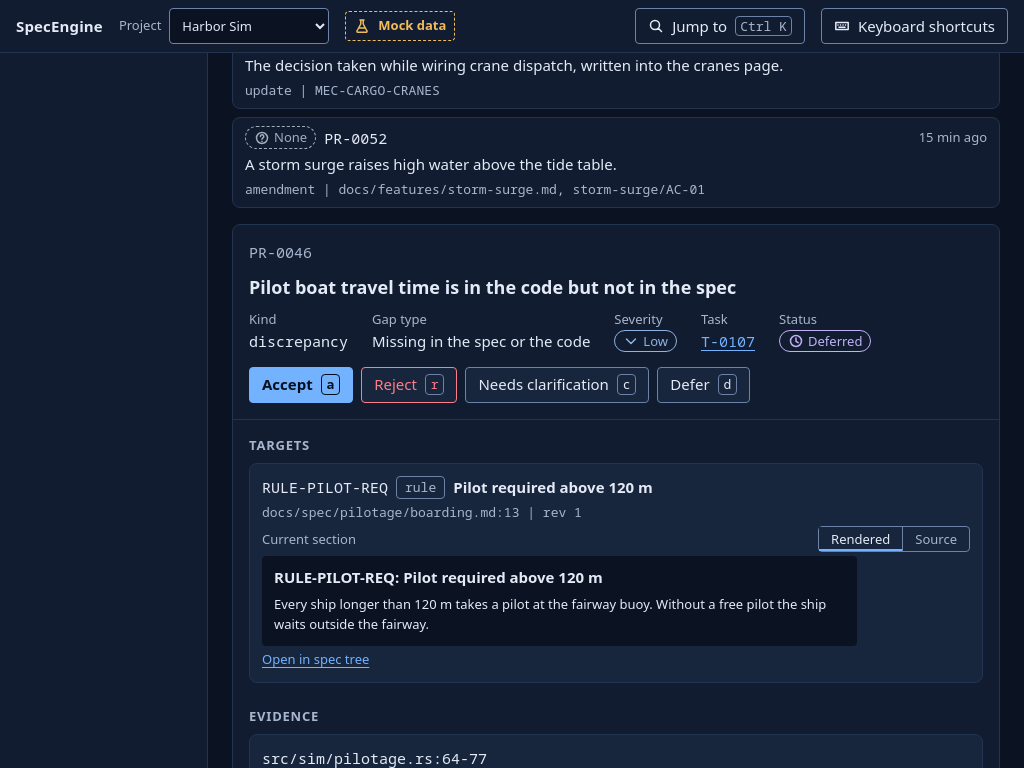
the UI over the mock › shows a refused stage in the daemon's words and keeps the dialog: a deferred proposal is not open
(page scrolled)
Click the button "Accept a". click: [301, 384]
box: [249, 366, 353, 402]
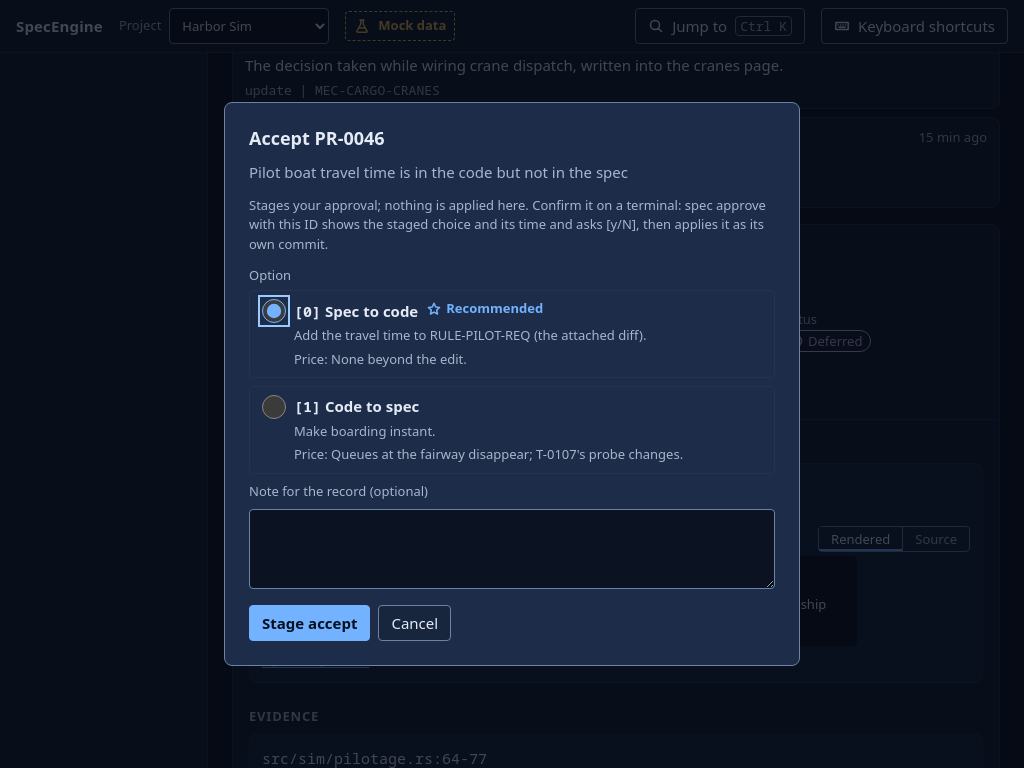
Type "try" into the text box labelled "Note for the record (optional)". click: [512, 549]
box: [249, 509, 775, 589]
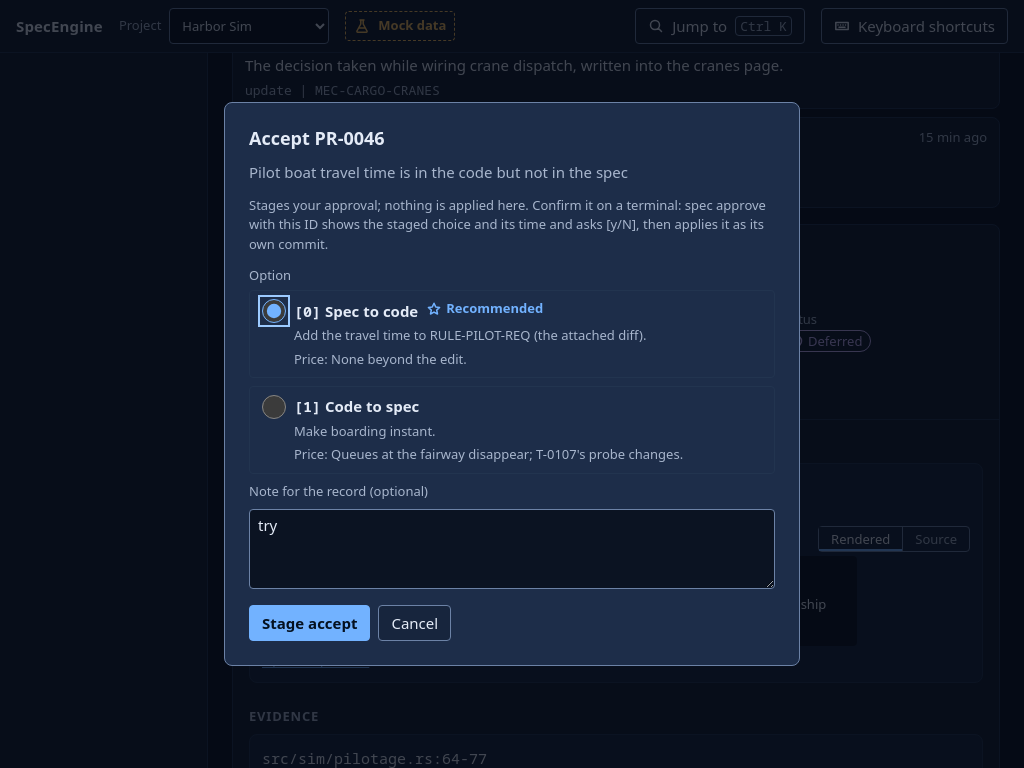
Click the button "Stage accept". click: [310, 623]
box: [249, 605, 370, 641]
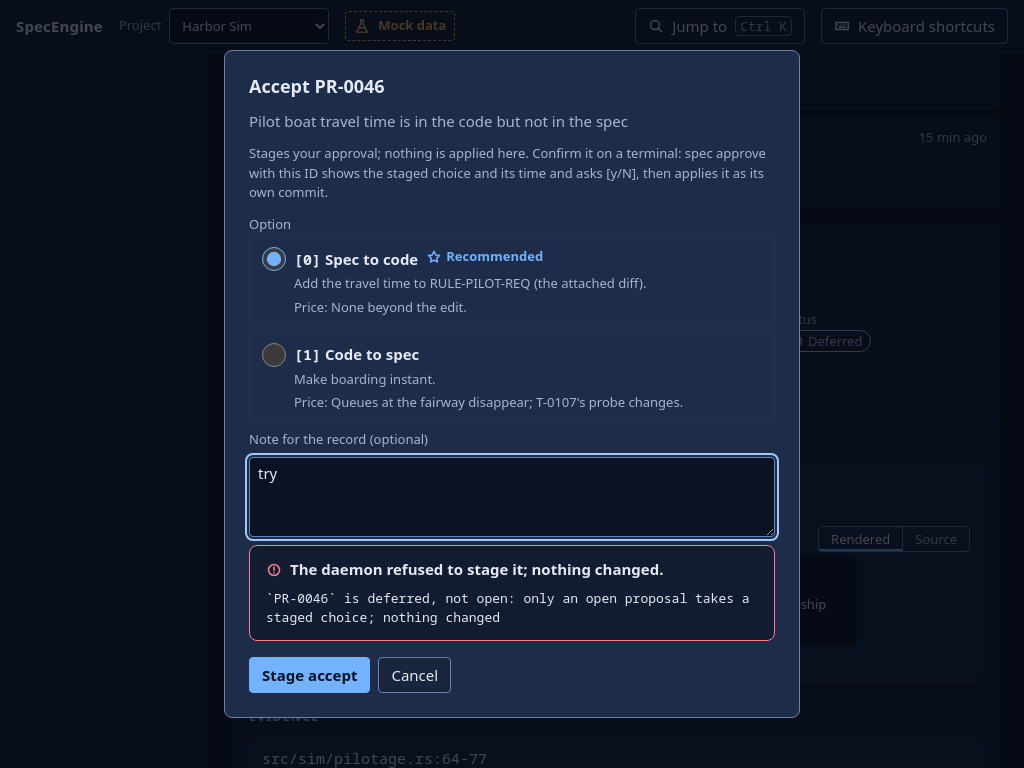
Expected: the text "`PR-0046` is deferred, not open" is shown, [266, 589, 757, 626]
